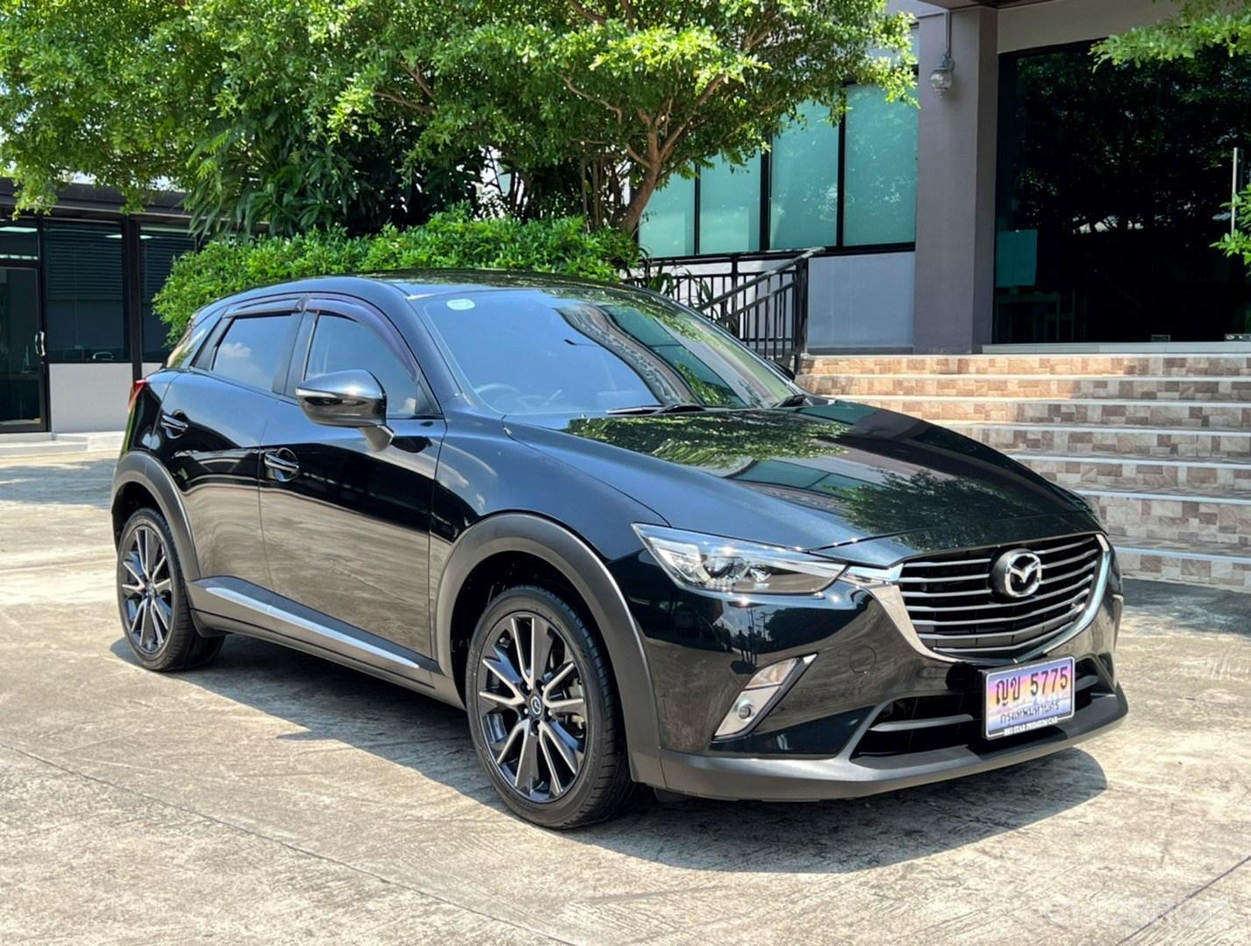license-plate: (982, 653, 1081, 745)
